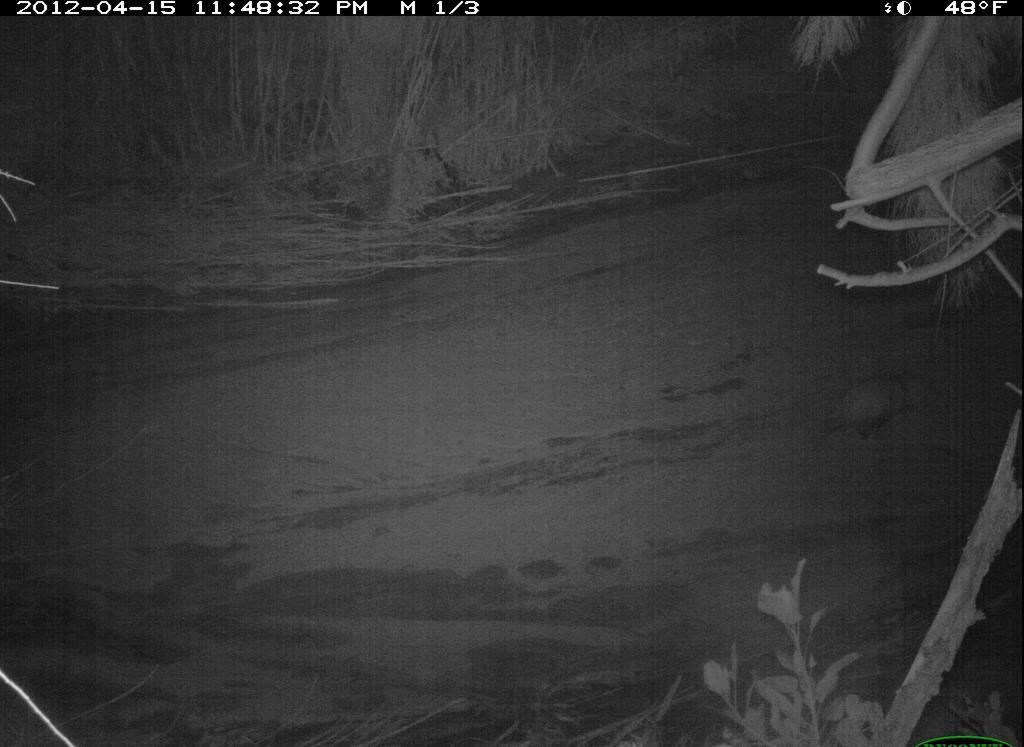opossum: (821, 358, 936, 454)
